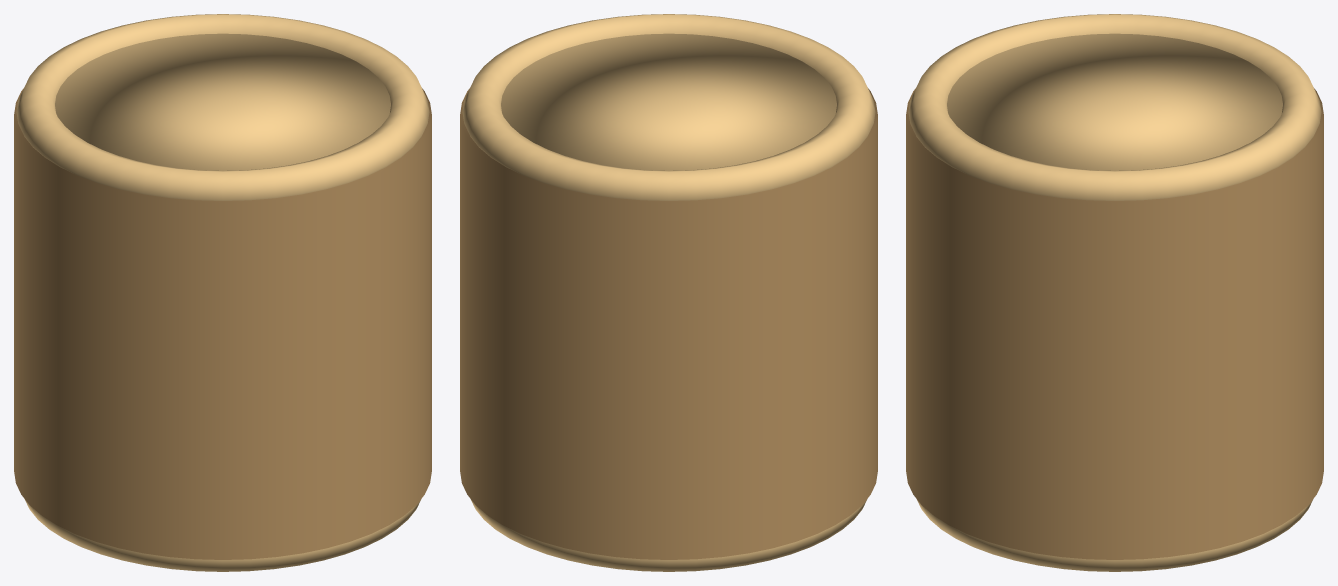
The model's file is mass_heavy.glb.
The picture shows the model from 3 angles, left to right: view 1: azimuth 30°, elevation 25°; view 2: azimuth 150°, elevation 25°; view 3: azimuth 270°, elevation 25°; orthographic projection.
Parts seen in each view (by area): view 1: MassHeavy, Top_Face, Top_Rim, Bottom_Rim; view 2: MassHeavy, Top_Face, Top_Rim, Bottom_Rim; view 3: MassHeavy, Top_Face, Top_Rim, Bottom_Rim.
Boxes of the visible parts, box(x1,y1,x2,y2) form: MassHeavy: box(14, 88, 431, 559); Top_Face: box(55, 33, 390, 170); Top_Rim: box(16, 14, 429, 200); Bottom_Rim: box(24, 499, 421, 571); MassHeavy: box(460, 88, 877, 559); Top_Face: box(501, 33, 836, 170); Top_Rim: box(462, 14, 875, 200); Bottom_Rim: box(470, 499, 867, 571); MassHeavy: box(906, 88, 1323, 559); Top_Face: box(947, 33, 1282, 170); Top_Rim: box(908, 14, 1321, 200); Bottom_Rim: box(916, 499, 1313, 571).
Size of the model in its own units: 0.36 by 0.38 by 0.36.
